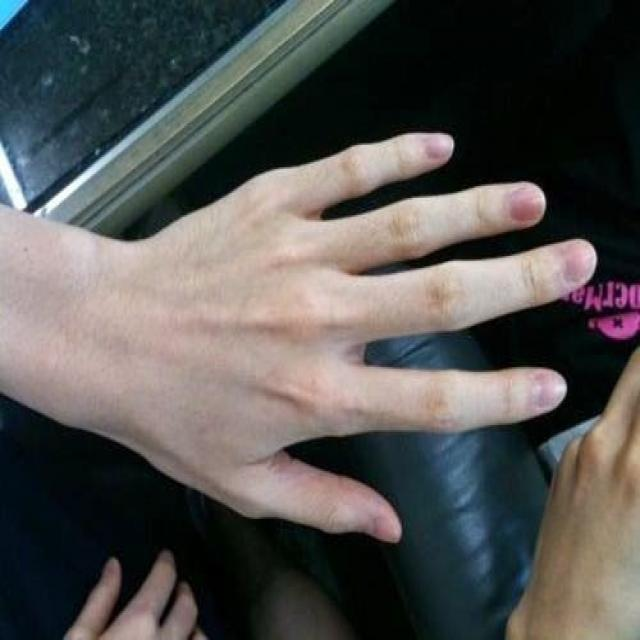bare_hand: (114, 133, 597, 543)
